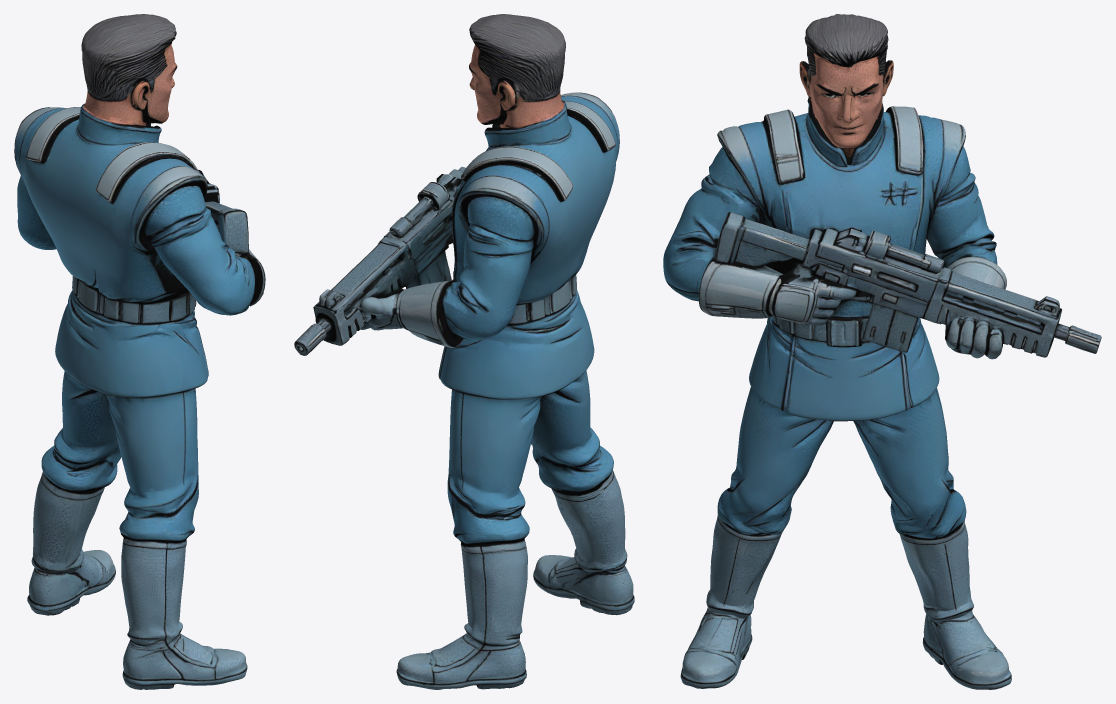
Rendered from cadet3d.glb.
3 renders of one model, left to right at view 1: azimuth 30°, elevation 25°; view 2: azimuth 150°, elevation 25°; view 3: azimuth 270°, elevation 25°, orthographic. The views are drawn at different scales.
Parts seen in each view (by area): view 1: tripo_node_1b14e896-eebb-414b-bcce-b6fb845256f2; view 2: tripo_node_1b14e896-eebb-414b-bcce-b6fb845256f2; view 3: tripo_node_1b14e896-eebb-414b-bcce-b6fb845256f2.
Part boxes in pixels (box(x1,y1,x2,y2)): tripo_node_1b14e896-eebb-414b-bcce-b6fb845256f2: box(14, 14, 265, 689); tripo_node_1b14e896-eebb-414b-bcce-b6fb845256f2: box(294, 14, 634, 689); tripo_node_1b14e896-eebb-414b-bcce-b6fb845256f2: box(663, 14, 1101, 689).
Size of the model in its own units: 0.3113 by 1 by 0.6138.
1 material, 1 textured.
